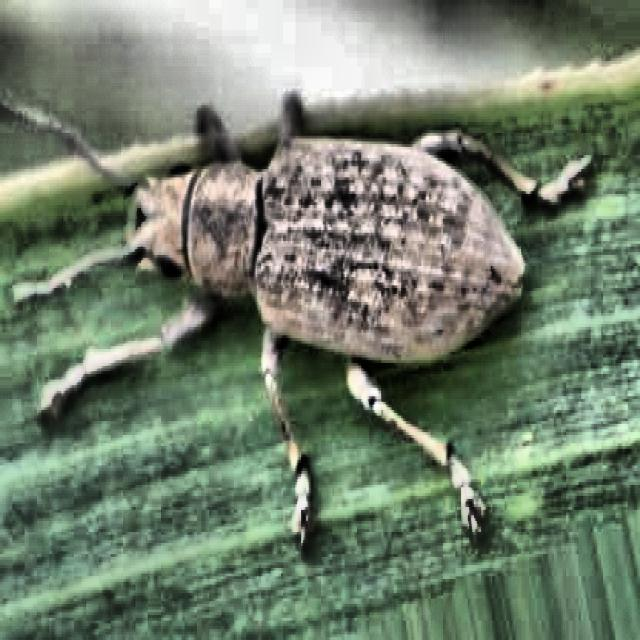Stink bug: (79, 66, 552, 475)
